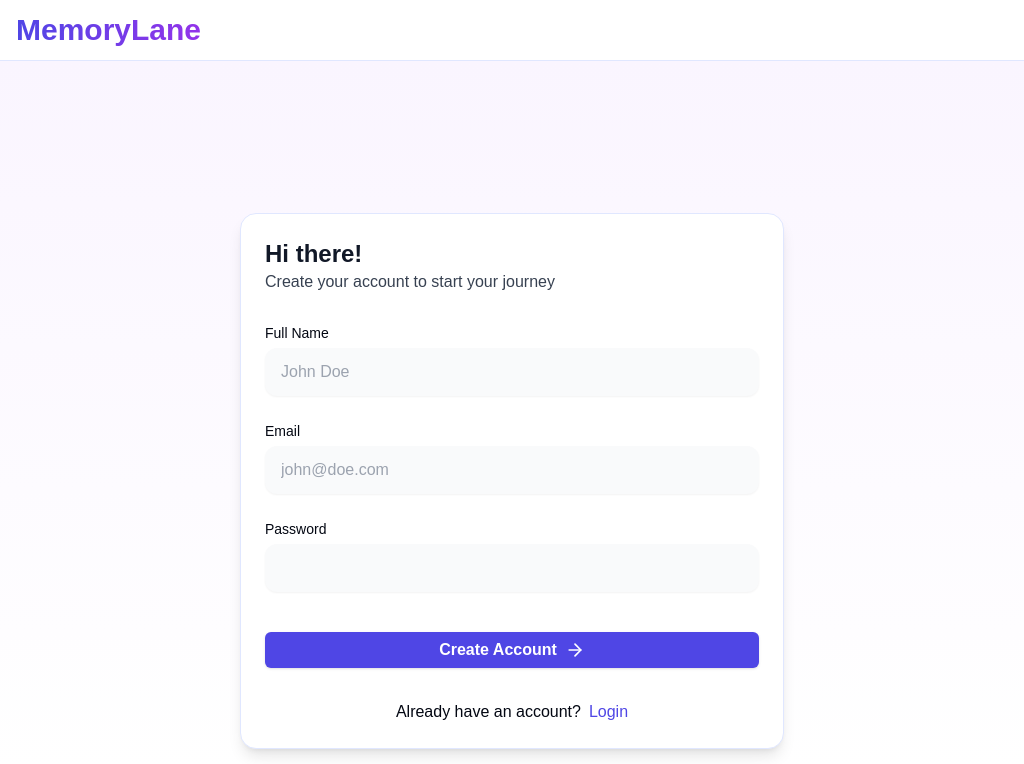
Signup Page › should show error messages for empty fields
Click the submit button at [512, 650], box [265, 632, 759, 668]
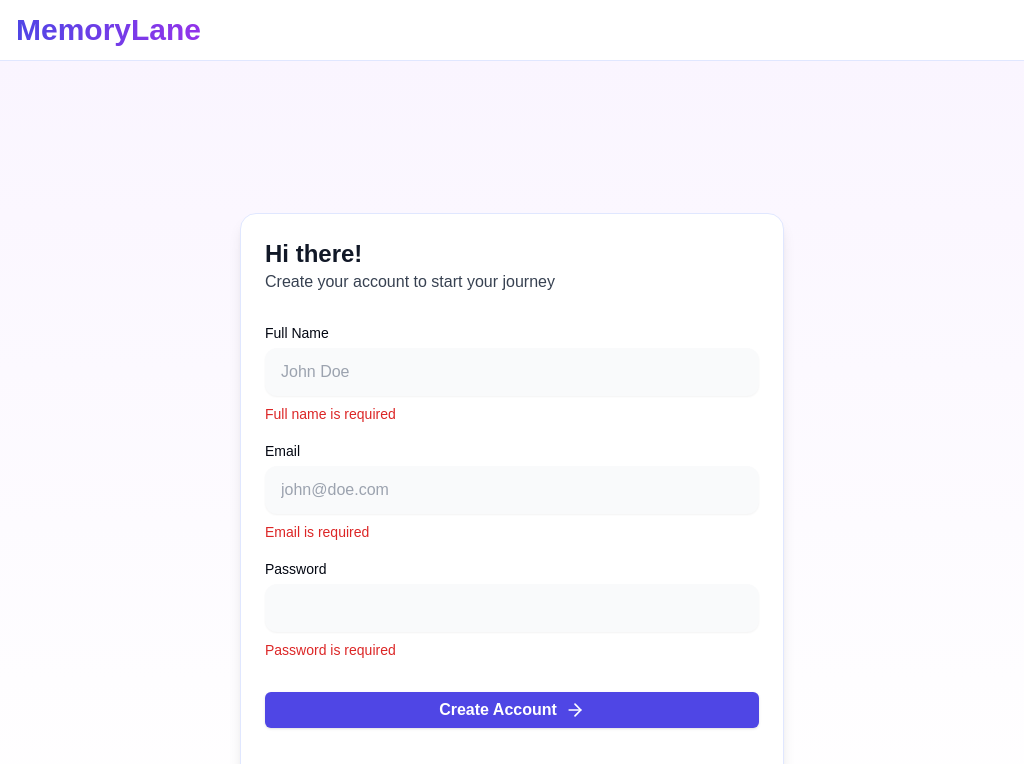
Expected: the text "Full name is required" is shown, [265, 406, 396, 422]
Expected: the text "Email is required" is shown, [265, 524, 369, 540]
Expected: the text "Password is required" is shown, [265, 642, 396, 658]
